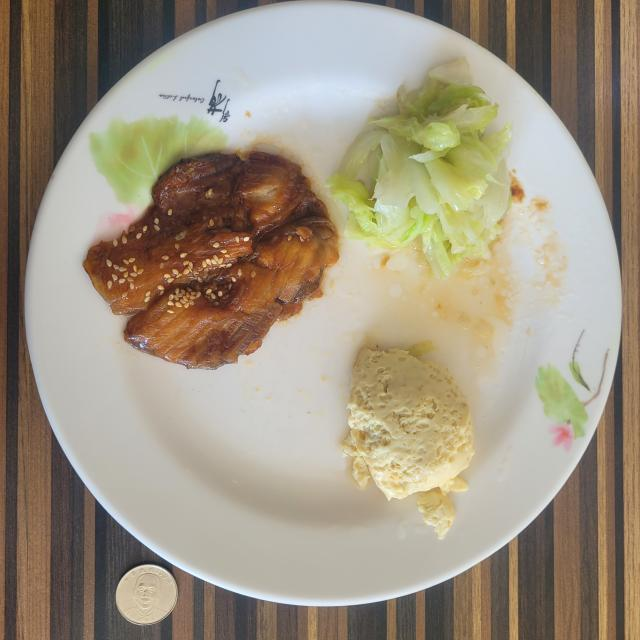Kabayaki sea bream fillet: (84, 152, 339, 369)
cabbage: (328, 58, 512, 279)
coin: (116, 565, 178, 625)
